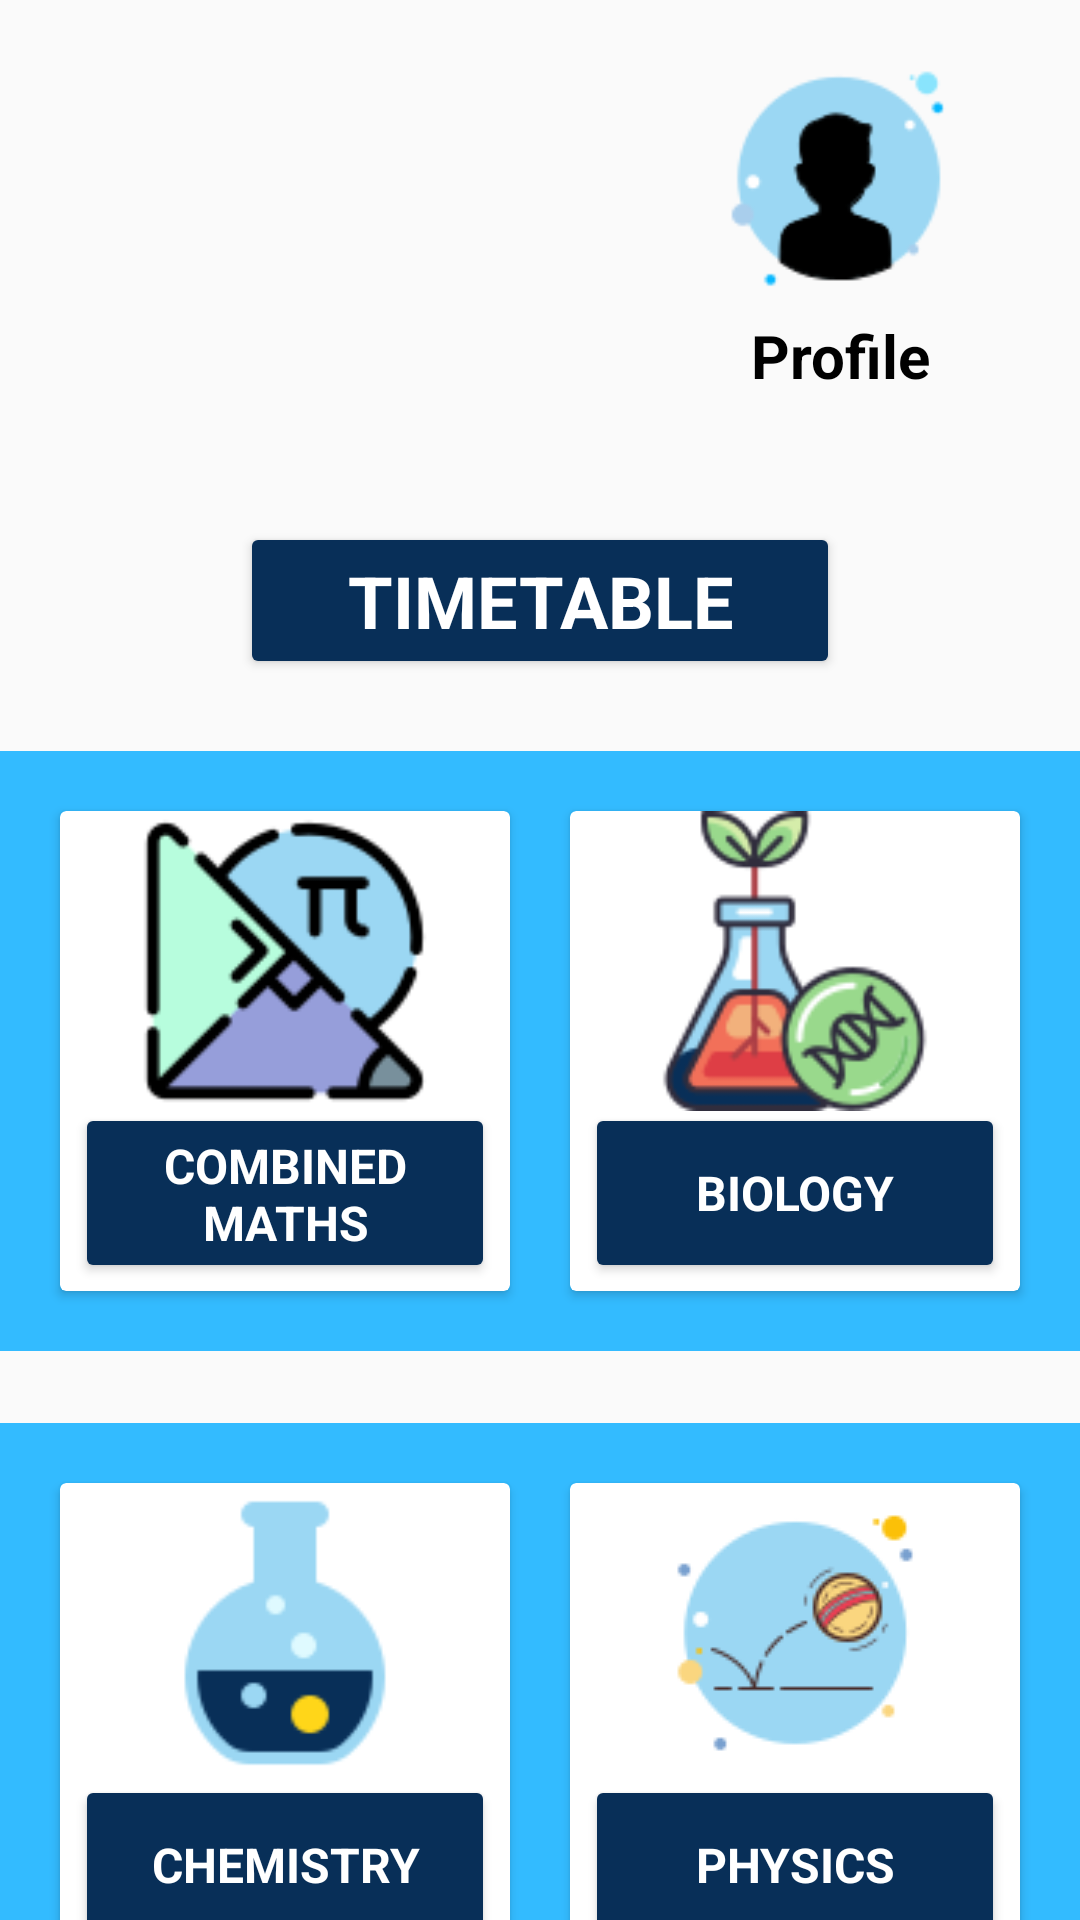

Named icons in this screenshot (1080 × 1920) and their bounding boxes, (x1, y1, x2, y2):
mathsicon: (145, 822, 424, 1101)
phyicon: (677, 1515, 913, 1751)
usericon: (732, 71, 944, 286)
